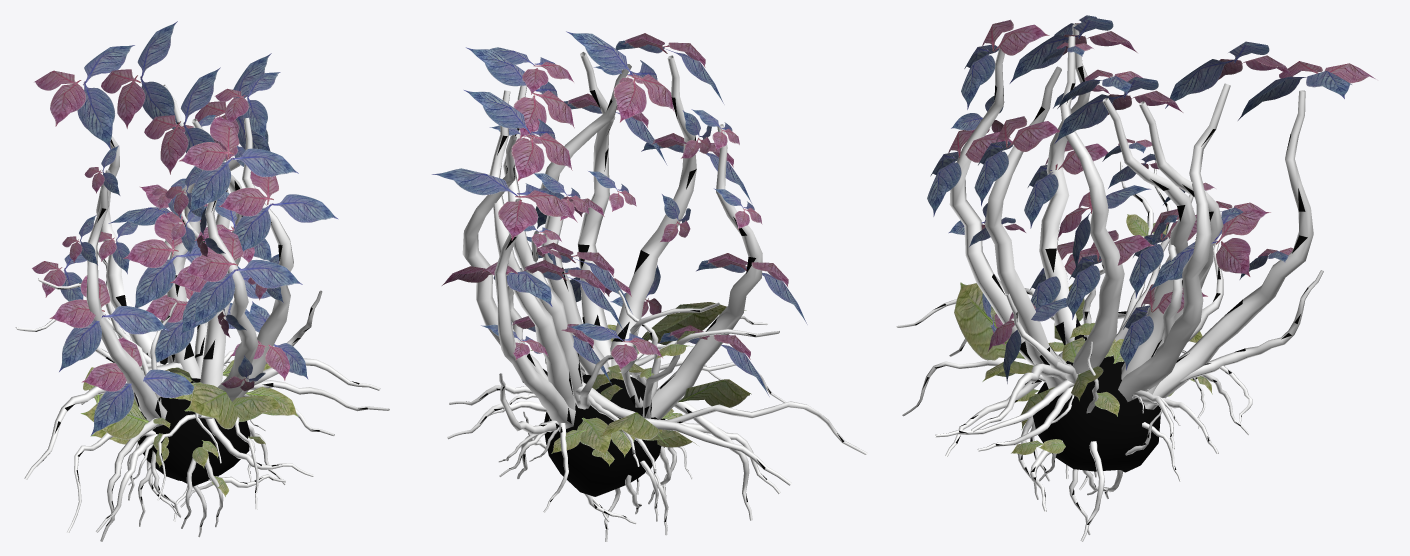
Rendered from 01_Azure.fbx.
3 views of the same model, side by side, from view 1: azimuth 30°, elevation 25°; view 2: azimuth 150°, elevation 25°; view 3: azimuth 270°, elevation 25° (orthographic). The views are drawn at different scales.
Visible parts, largest first — view 1: polySurface29; view 2: polySurface29; view 3: polySurface29.
Boxes of the visible parts, x1,y1,x2,y2 form: polySurface29: (15, 21, 389, 541); polySurface29: (431, 31, 867, 541); polySurface29: (896, 15, 1375, 541).
Size of the model in its own units: 75.43 by 106 by 89.79.
6 materials, 3 textured.
